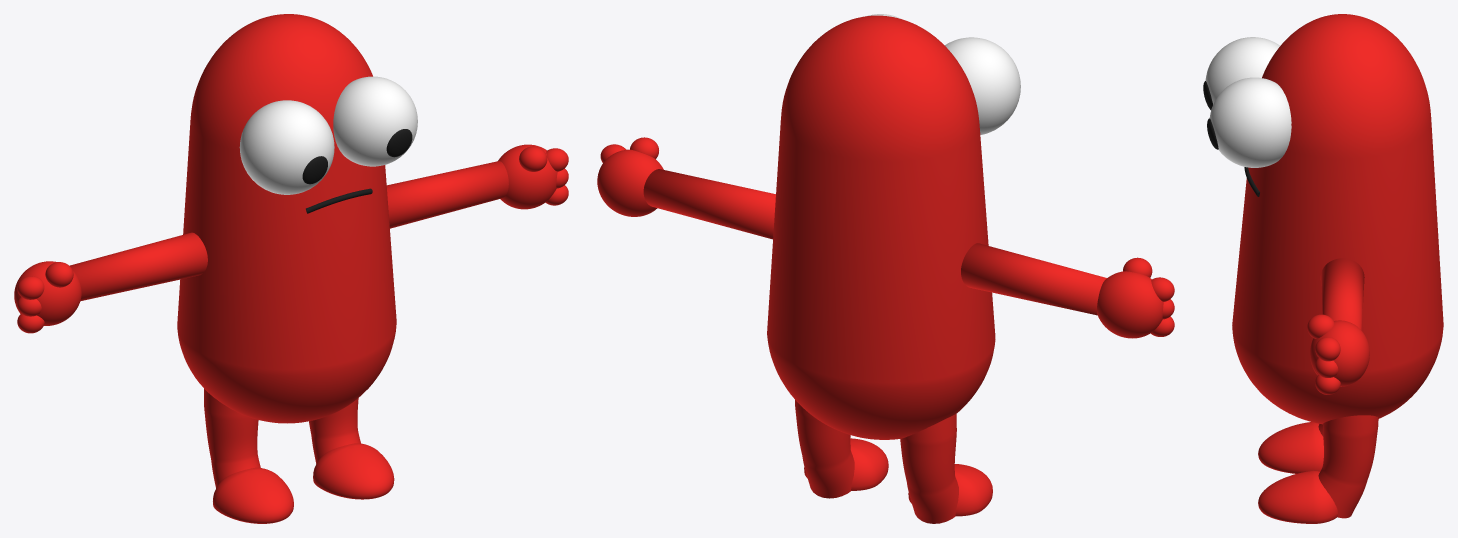
File: red_bean.glb
The picture shows the model from 3 angles, left to right: view 1: azimuth 30°, elevation 25°; view 2: azimuth 150°, elevation 25°; view 3: azimuth 270°, elevation 25°; orthographic projection. The views are drawn at different scales.
Parts seen in each view (by area): view 1: Body, Eye.R, Eye.L, Arm.R, Arm.L, Foot.L, Foot.R, Leg.R, Hand.L, Hand.R, Leg.L; view 2: Body, Arm.R, Arm.L, Leg.R, Eye.R, Leg.L, Hand.R, Hand.L, Foot.L, Foot.R; view 3: Body, Eye.L, Leg.L, Foot.L, Foot.R, Eye.R, Arm.L, Hand.L, Finger1.L, Thumb.L, Finger3.L, Finger2.L.
Part boxes in pixels (left/top/right/bottom): Body: left=177, top=14, right=396, bottom=423; Eye.R: left=239, top=100, right=334, bottom=194; Eye.L: left=333, top=76, right=417, bottom=166; Arm.R: left=69, top=232, right=207, bottom=301; Arm.L: left=386, top=161, right=508, bottom=228; Foot.L: left=313, top=443, right=394, bottom=499; Foot.R: left=213, top=467, right=293, bottom=523; Leg.R: left=204, top=388, right=260, bottom=487; Hand.L: left=498, top=144, right=557, bottom=209; Hand.R: left=14, top=261, right=81, bottom=325; Leg.L: left=309, top=398, right=360, bottom=463; Body: left=767, top=15, right=995, bottom=439; Arm.R: left=961, top=243, right=1106, bottom=315; Arm.L: left=643, top=169, right=775, bottom=239; Leg.R: left=900, top=414, right=958, bottom=523; Eye.R: left=945, top=37, right=1020, bottom=134; Leg.L: left=795, top=400, right=854, bottom=498; Hand.R: left=1097, top=271, right=1163, bottom=338; Hand.L: left=597, top=149, right=663, bottom=216; Foot.L: left=804, top=438, right=888, bottom=490; Foot.R: left=908, top=464, right=992, bottom=516; Body: left=1232, top=14, right=1443, bottom=424; Eye.L: left=1209, top=77, right=1291, bottom=167; Leg.L: left=1318, top=415, right=1378, bottom=518; Foot.L: left=1258, top=470, right=1337, bottom=523; Foot.R: left=1258, top=422, right=1323, bottom=473; Eye.R: left=1205, top=37, right=1279, bottom=104; Arm.L: left=1320, top=258, right=1364, bottom=330; Hand.L: left=1310, top=320, right=1369, bottom=386; Finger1.L: left=1315, top=337, right=1340, bottom=361; Thumb.L: left=1307, top=314, right=1334, bottom=338; Finger3.L: left=1315, top=374, right=1340, bottom=394; Finger2.L: left=1315, top=358, right=1338, bottom=377.
Bounding box in the file's own units: 2.41 × 1.95 × 0.9099.
